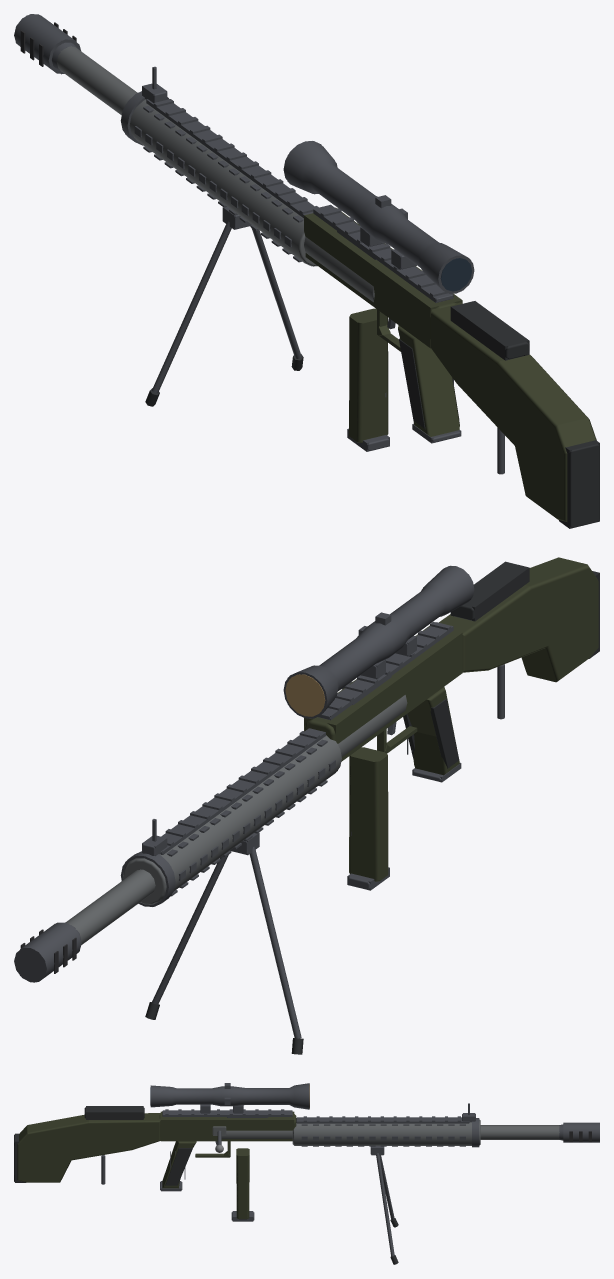
Rendered from amr.glb.
The picture shows the model from 3 angles, top to bottom: view 1: azimuth 30°, elevation 25°; view 2: azimuth 150°, elevation 25°; view 3: azimuth 270°, elevation 25°; orthographic projection. The views are drawn at different scales.
Parts seen in each view (by area): view 1: L0, L1; view 2: L0, L1; view 3: L0, L1.
Boxes of the visible parts, x1=… form: L0: x1=14, y1=14, x2=599, y2=528; L1: x1=15, y1=15, x2=599, y2=528; L0: x1=14, y1=557, x2=599, y2=1054; L1: x1=14, y1=561, x2=599, y2=982; L0: x1=14, y1=1083, x2=599, y2=1264; L1: x1=15, y1=1083, x2=599, y2=1221.
Bounding box in the file's own units: 0.1835 × 0.3465 × 1.14.
